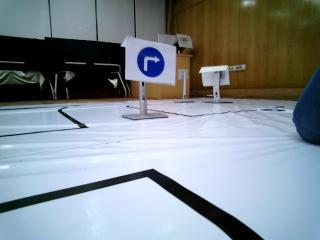right: (126, 39, 169, 81)
